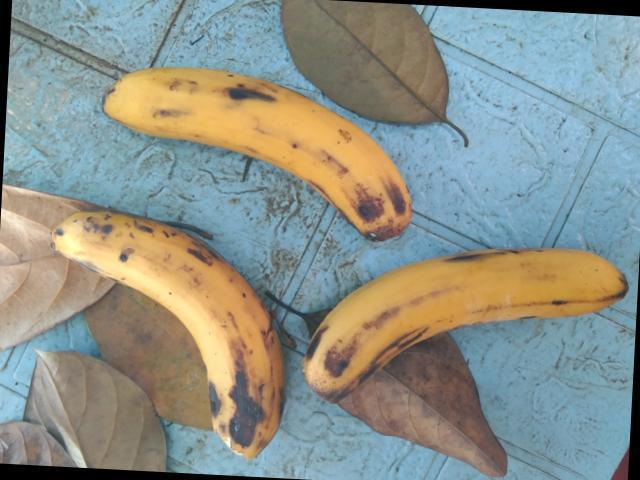overripe: (47, 201, 280, 479)
ripe: (92, 50, 423, 237), (302, 244, 632, 415)
